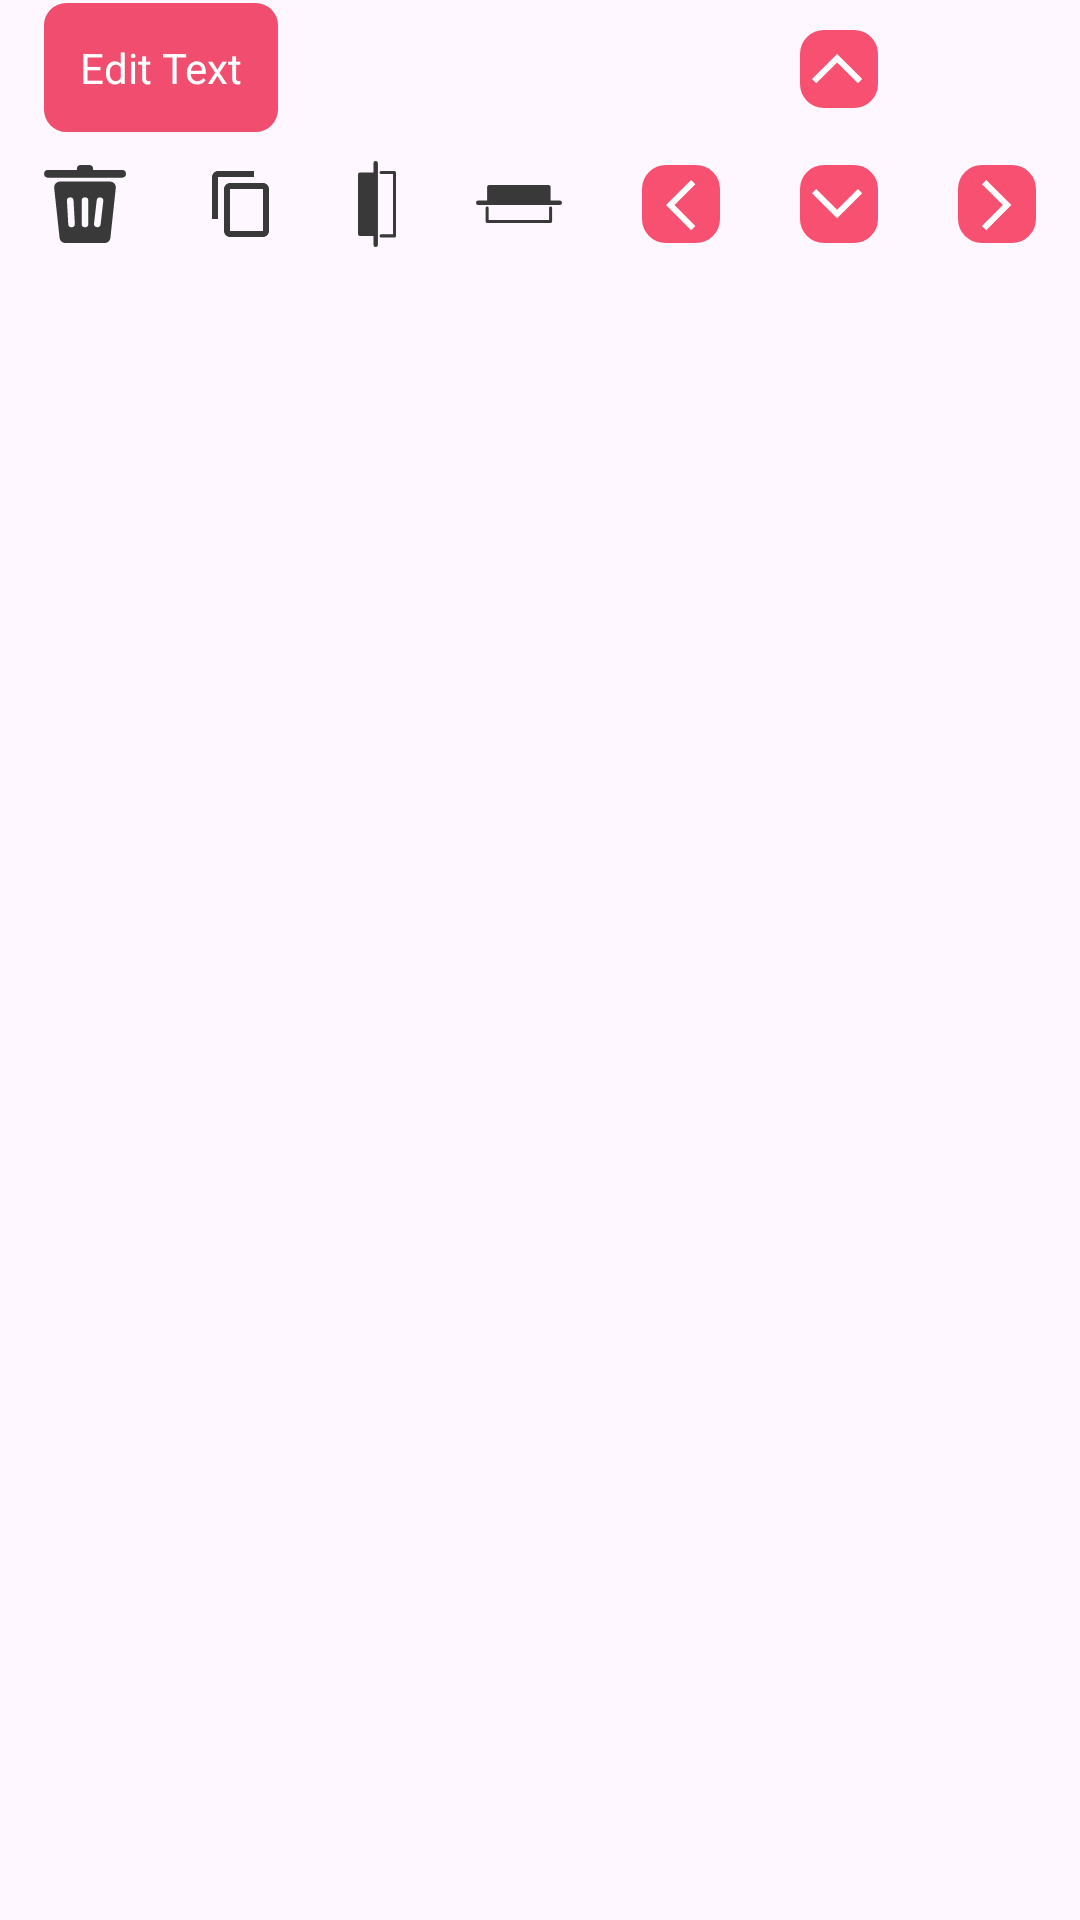

Named icons in this screenshot (1080x1920) and their centers, (x=x, y=y):
delete control: (x=85, y=204)
down arrow: (x=839, y=204)
left arrow: (x=681, y=204)
right arrow: (x=997, y=204)
up arrow: (x=839, y=69)
